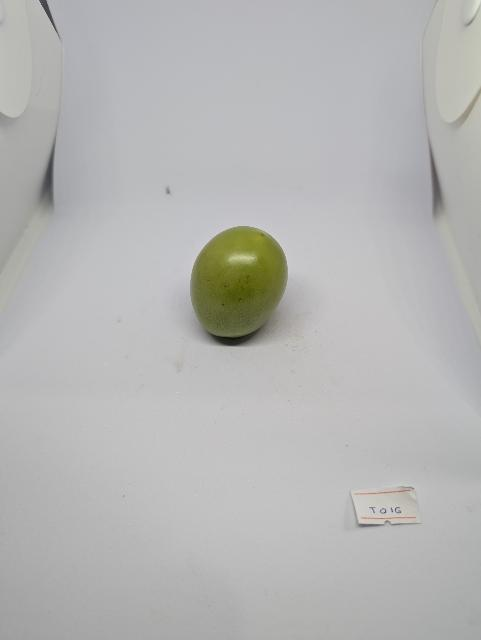green: (187, 222, 292, 341)
